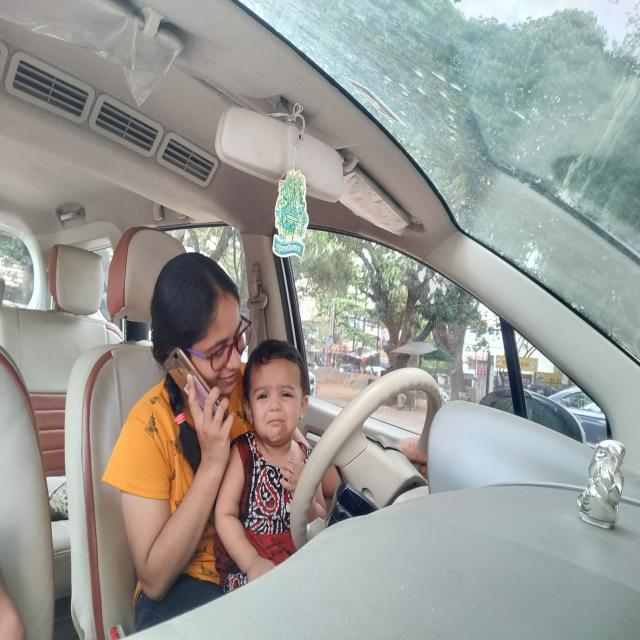child: (236, 349, 308, 448)
mobile: (158, 347, 203, 398)
person: (154, 259, 249, 395)
